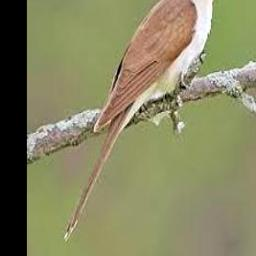Cuckoo: (63, 0, 230, 241)
